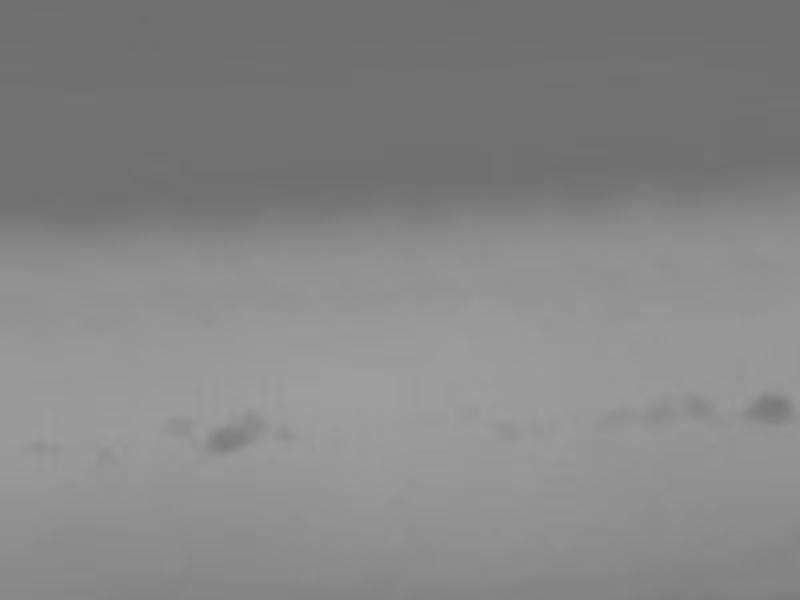defect: (748, 392, 787, 426), (638, 395, 674, 425), (209, 424, 246, 453), (679, 391, 712, 419), (596, 406, 633, 430), (160, 414, 192, 436), (495, 416, 521, 443), (242, 406, 262, 434), (455, 400, 482, 417), (275, 424, 299, 440)
